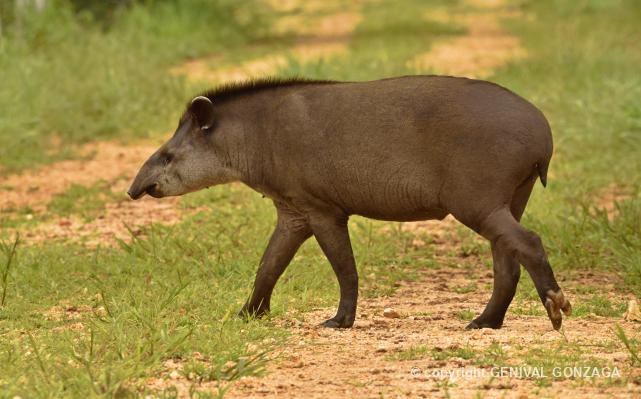Anta: (120, 72, 588, 333)
